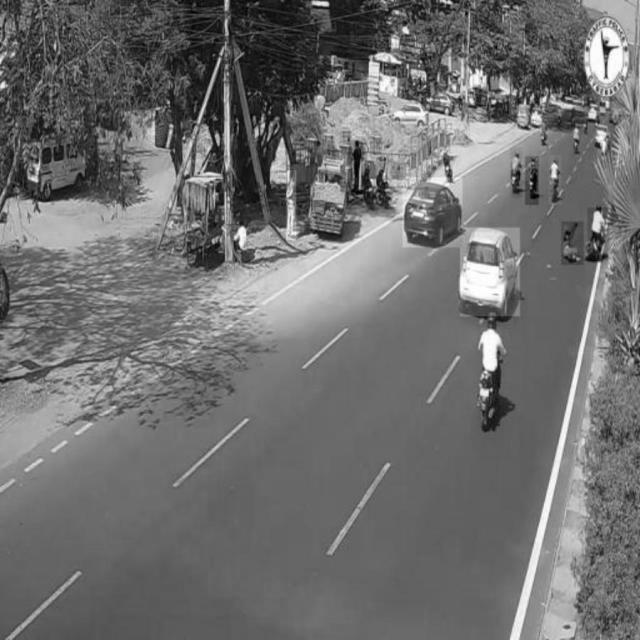person: (562, 221, 584, 265), (287, 170, 297, 240), (352, 140, 362, 196)
vehicle: (460, 228, 520, 316), (403, 179, 463, 249), (476, 315, 504, 433), (588, 208, 608, 262), (525, 156, 539, 204), (511, 148, 523, 199), (549, 156, 561, 206)
